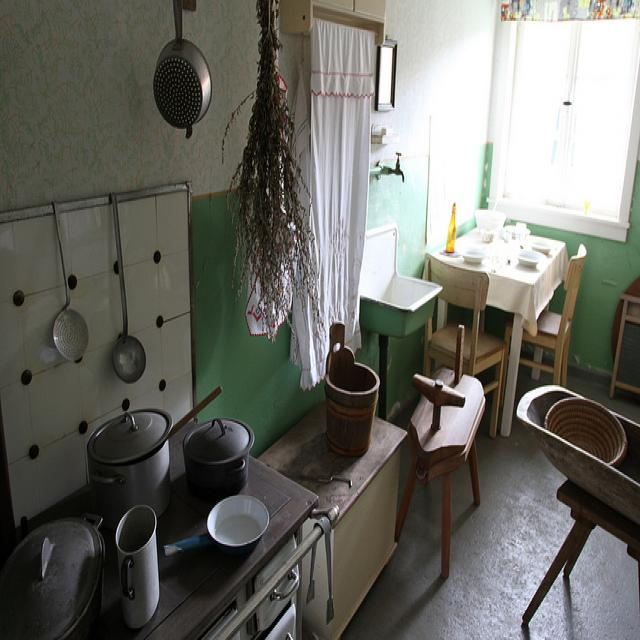chair: (521, 468, 640, 624), (423, 253, 507, 439), (500, 242, 587, 407)
dining table: (436, 205, 571, 440)
